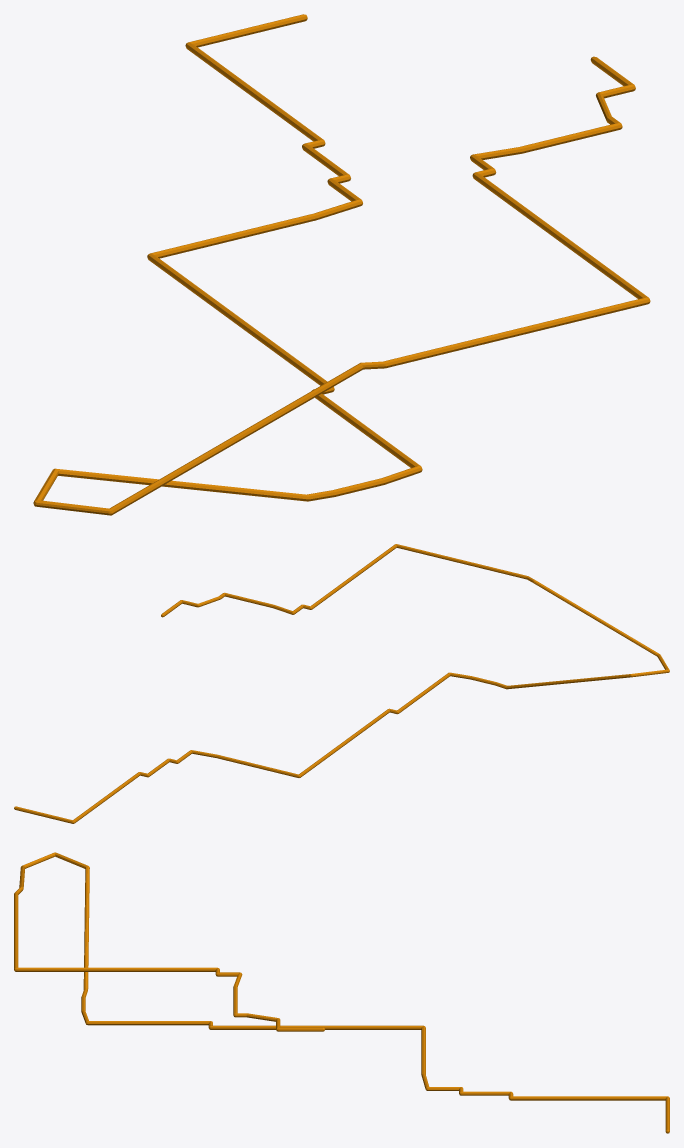
The picture shows the model from 3 angles, top to bottom: view 1: azimuth 30°, elevation 25°; view 2: azimuth 150°, elevation 25°; view 3: azimuth 270°, elevation 25°; orthographic projection. The views are drawn at different scales.
Bounding box in the file's own units: 2412 × 520 × 2929.
